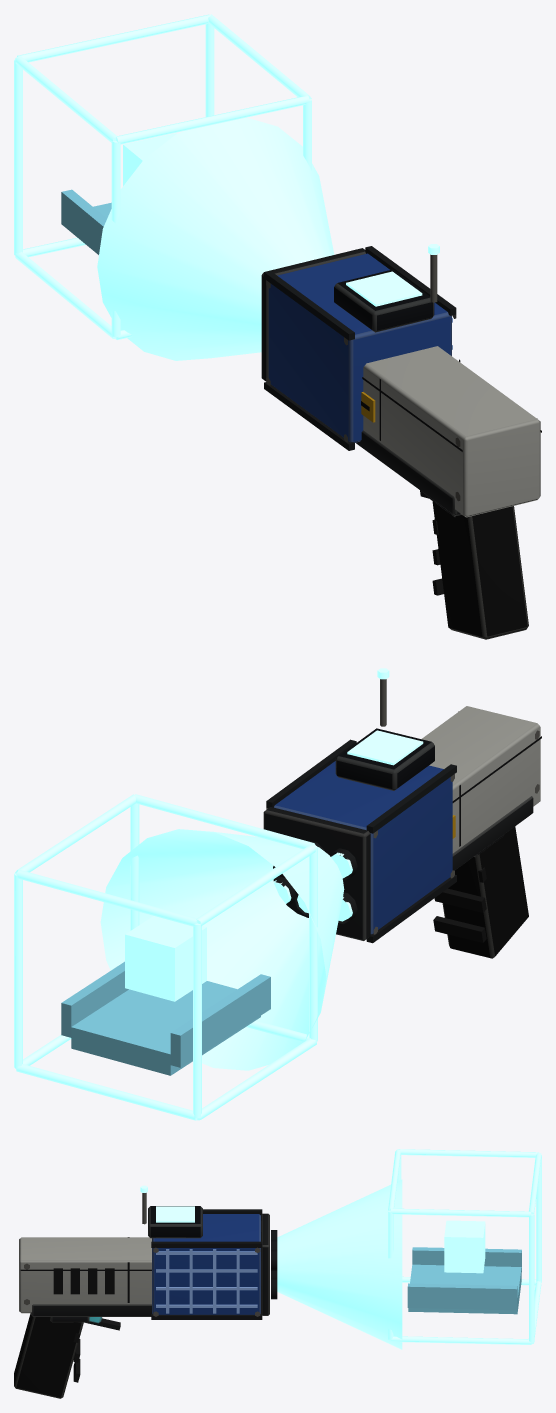
File: tool_blueprint_stamp.glb
3 views of the same model, one above another, from view 1: azimuth 30°, elevation 25°; view 2: azimuth 150°, elevation 25°; view 3: azimuth 270°, elevation 25° (orthographic). The views are drawn at different scales.
Visible parts, largest first — view 1: Body, Beam, Hologram; view 2: Body, Hologram, Beam; view 3: Body, Hologram, Beam.
Boxes of the visible parts, x1=… form: Body: x1=261, y1=244, x2=541, y2=639; Beam: x1=97, y1=117, x2=334, y2=360; Hologram: x1=14, y1=14, x2=311, y2=339; Body: x1=263, y1=668, x2=541, y2=958; Hologram: x1=14, y1=794, x2=317, y2=1120; Beam: x1=100, y1=829, x2=344, y2=1070; Body: x1=14, y1=1185, x2=277, y2=1398; Hologram: x1=388, y1=1149, x2=541, y2=1344; Beam: x1=277, y1=1179, x2=402, y2=1349.
Size of the model in its own units: 0.22 by 0.3012 by 0.6751.
